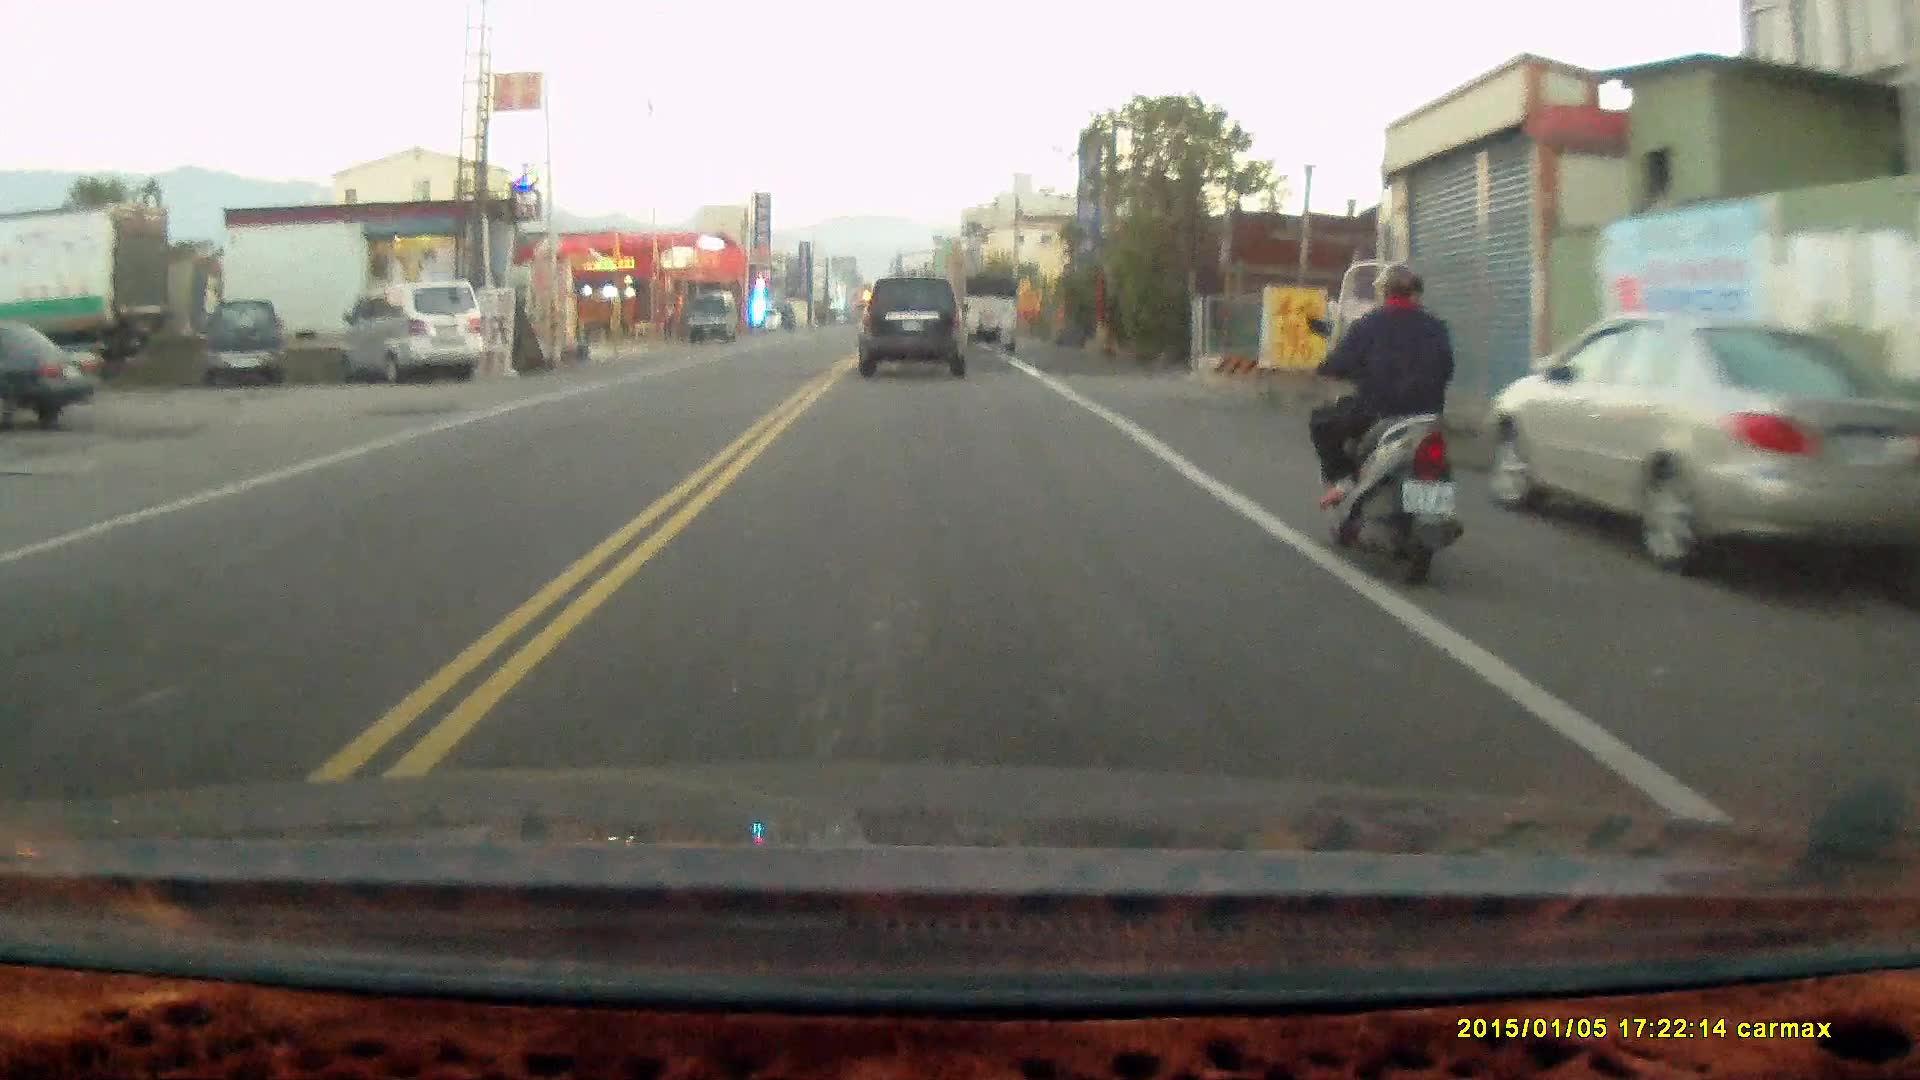rider: (1305, 258, 1464, 589)
vehicle: (1499, 313, 1919, 571), (342, 281, 487, 384), (857, 272, 974, 382), (1, 319, 103, 430), (201, 299, 286, 391), (960, 273, 1022, 353)
